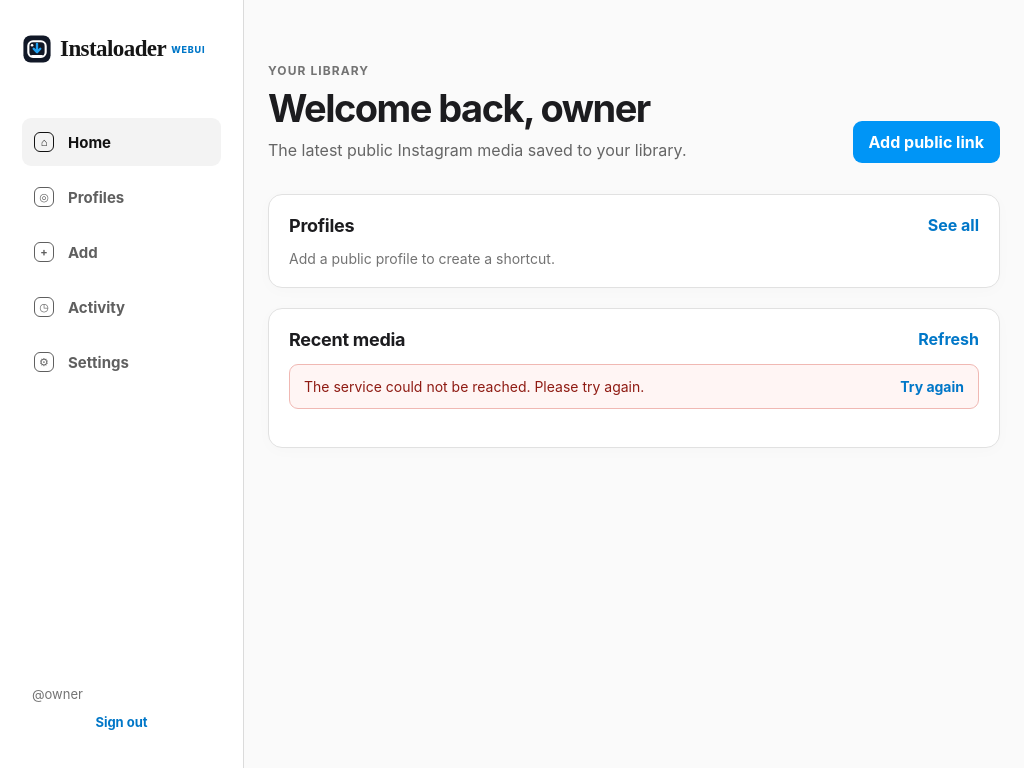
Test: App › keeps the session and shows a safe error when logout fails
Click the button "Sign out". click: (122, 722)
box: left=32, top=714, right=211, bottom=730
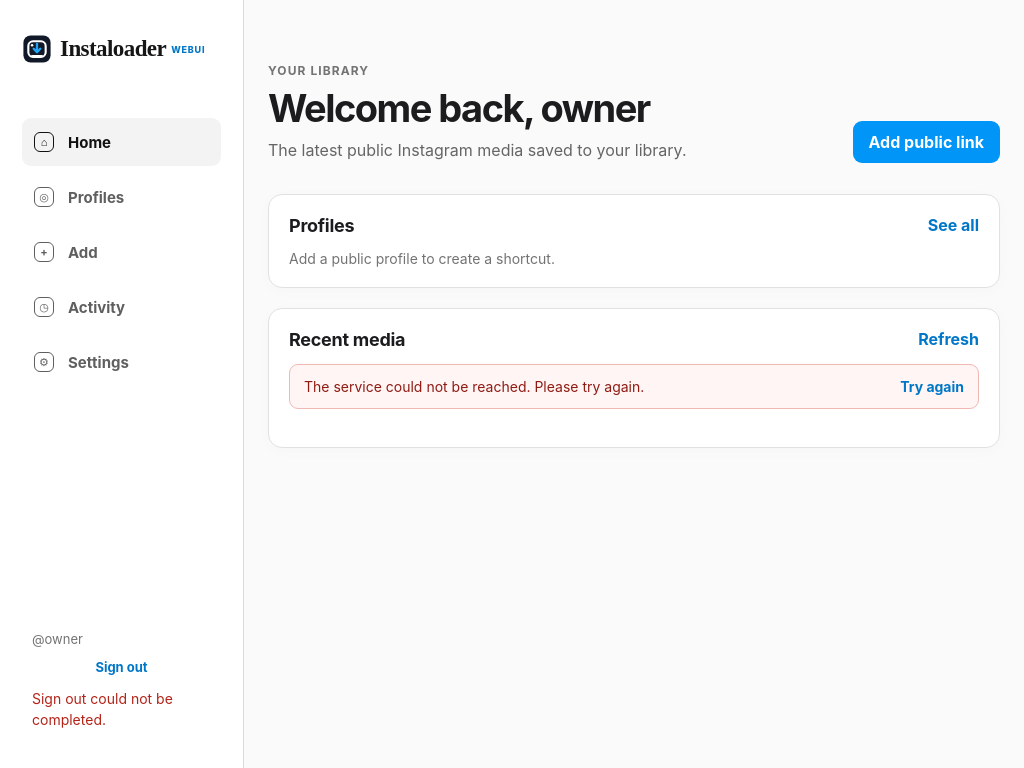
Expected: the heading "Welcome back, owner" is shown, left=268, top=85, right=686, bottom=131
Expected: the text "Sign out could not be completed." is shown, left=32, top=690, right=173, bottom=728
